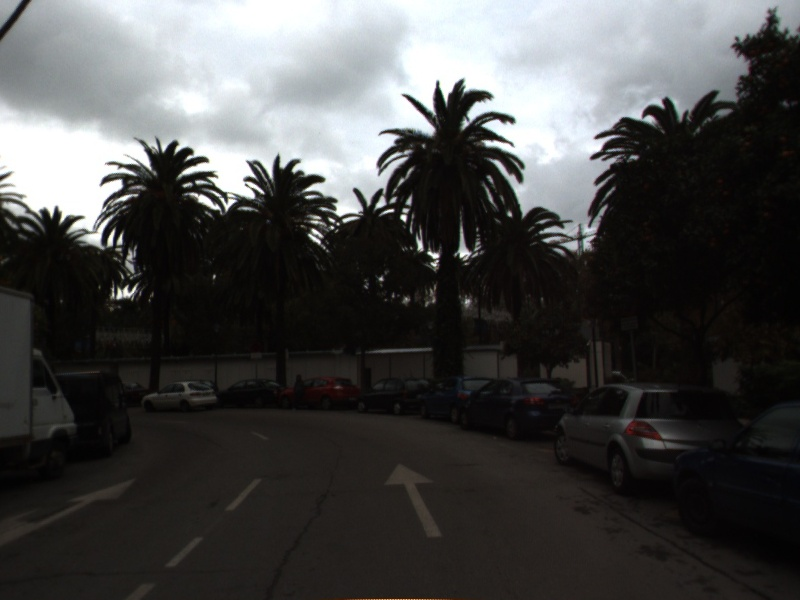STRAIGHT: (382, 461, 445, 539)
STRAIGHT_LEFT: (1, 477, 137, 546)
